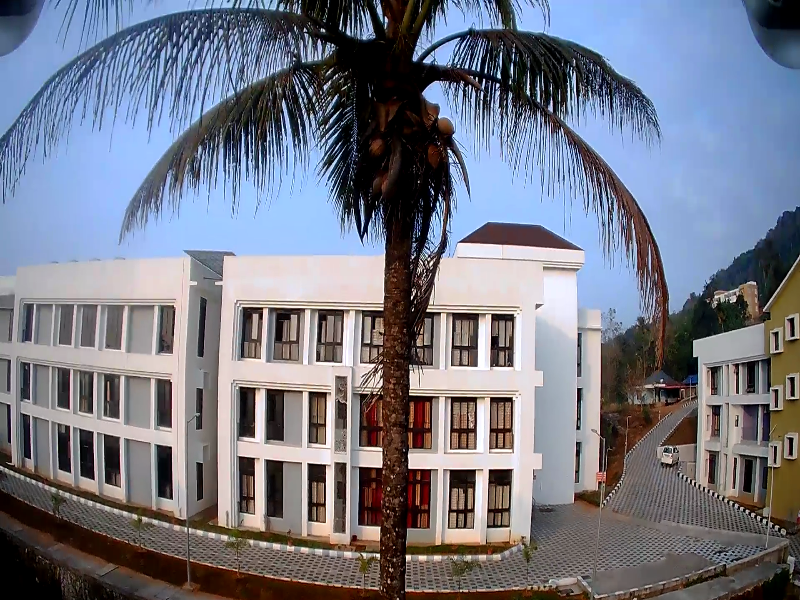coconut: (432, 113, 457, 139), (421, 140, 443, 168), (371, 138, 387, 160), (365, 174, 381, 193), (378, 178, 394, 193)
